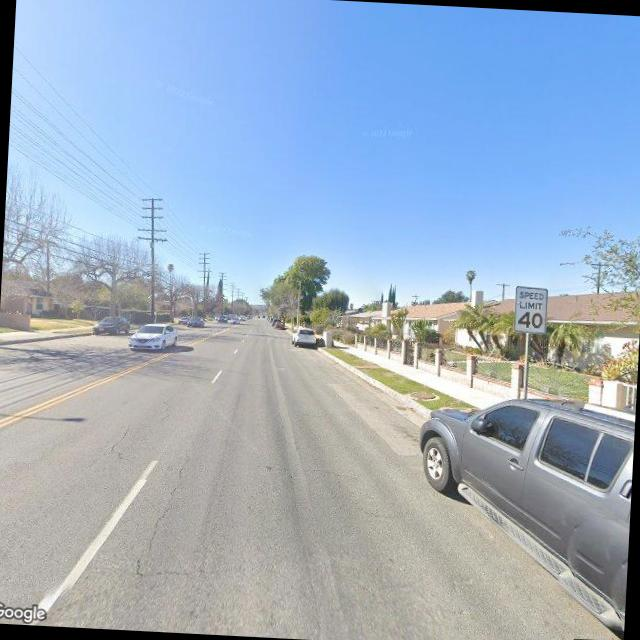crack: (134, 437, 192, 575), (90, 415, 126, 474)
